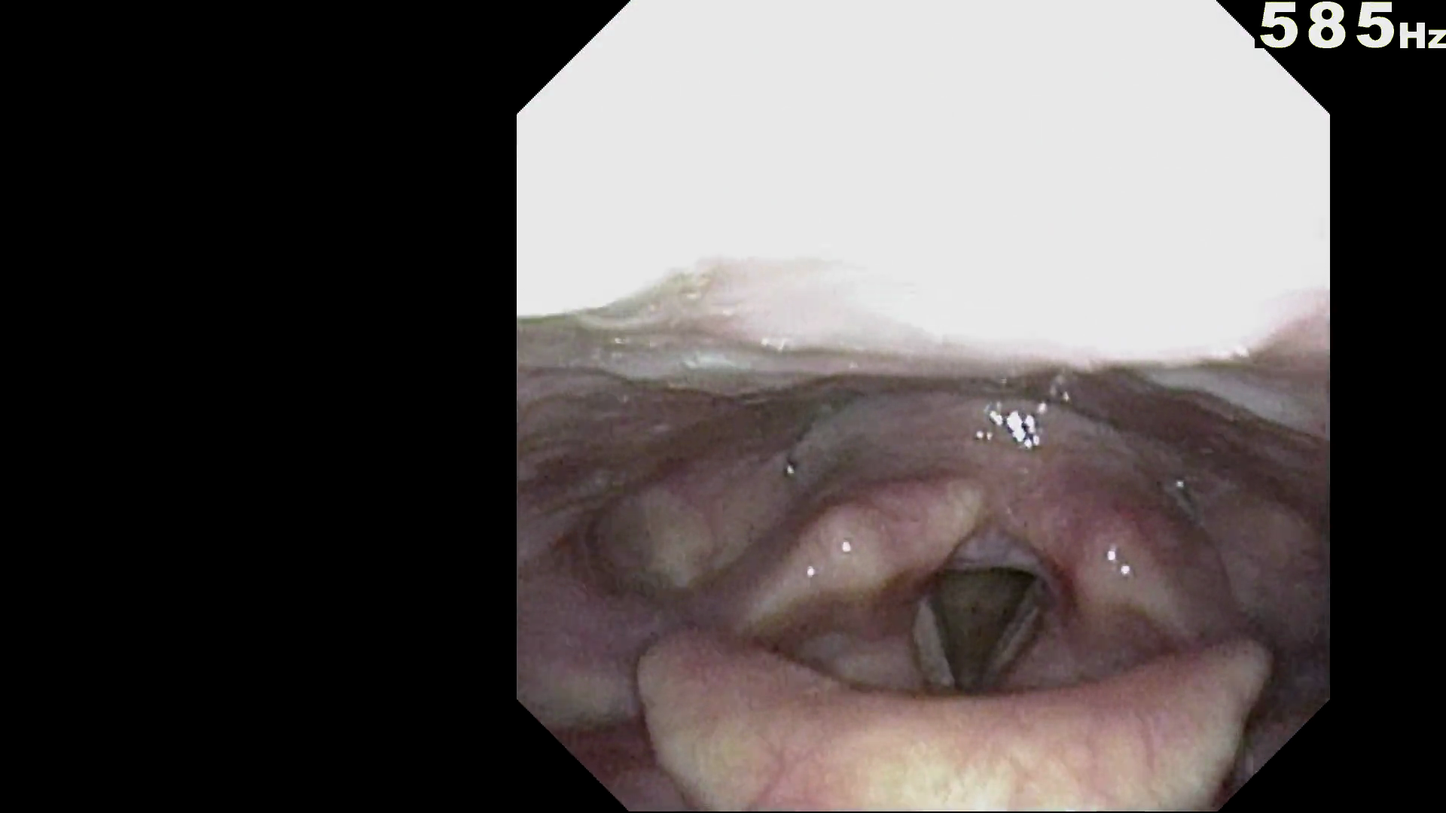epiglottis: (675, 652, 1216, 791)
trachea: (914, 555, 1043, 706)
